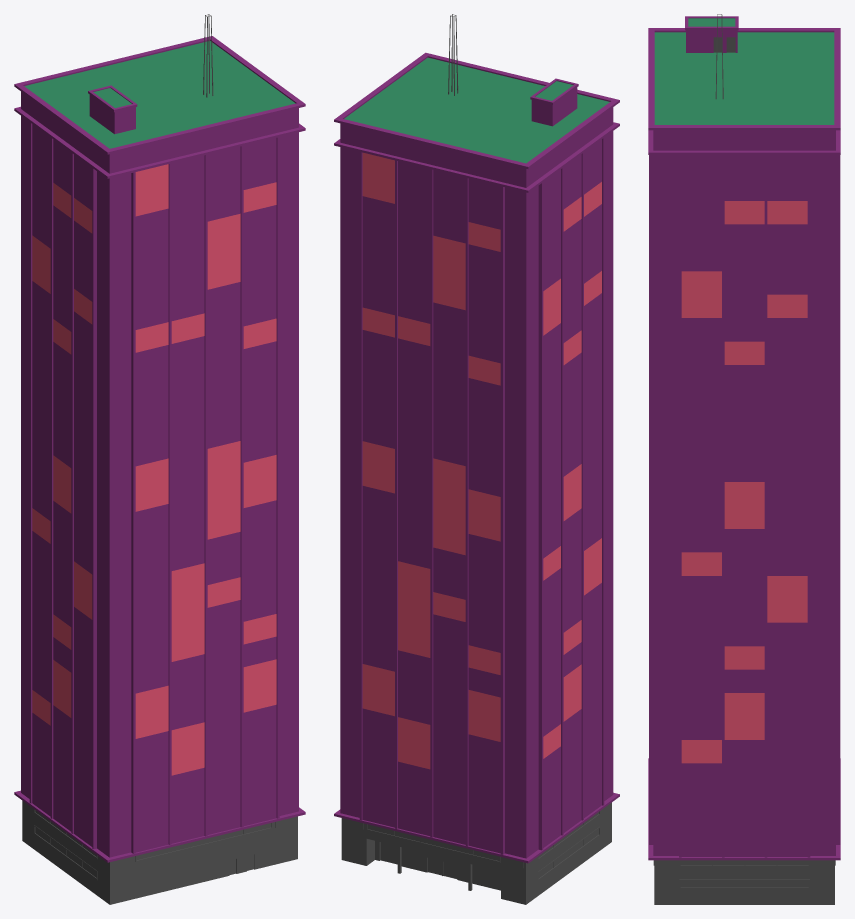
The model's file is mcp_building_02_LOD_1.FBX.
3 views of the same model, side by side, from view 1: azimuth 30°, elevation 25°; view 2: azimuth 150°, elevation 25°; view 3: azimuth 270°, elevation 25° (orthographic). The views are drawn at different scales.
Visible parts, largest first — view 1: mcp_building_02_walls, mcp_building_02_rooftop, mcp_building_02; view 2: mcp_building_02_walls, mcp_building_02_rooftop, mcp_building_02; view 3: mcp_building_02_walls, mcp_building_02_rooftop, mcp_building_02.
Part boxes in pixels (bbox=[...]): mcp_building_02_walls: bbox=[14, 36, 305, 862]; mcp_building_02_rooftop: bbox=[24, 41, 295, 148]; mcp_building_02: bbox=[22, 800, 297, 904]; mcp_building_02_walls: bbox=[334, 52, 619, 863]; mcp_building_02_rooftop: bbox=[344, 57, 609, 163]; mcp_building_02: bbox=[341, 802, 611, 904]; mcp_building_02_walls: bbox=[648, 16, 840, 860]; mcp_building_02_rooftop: bbox=[654, 18, 834, 124]; mcp_building_02: bbox=[653, 37, 835, 904].
Bounding box in the file's own units: 3916 × 15757 × 3194.
